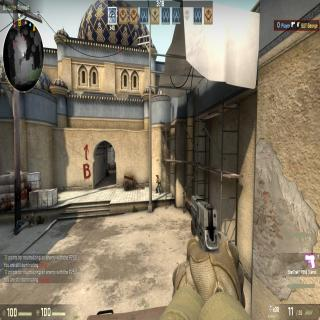T-Body: (155, 174, 161, 194)
T-Head: (156, 174, 159, 180)
